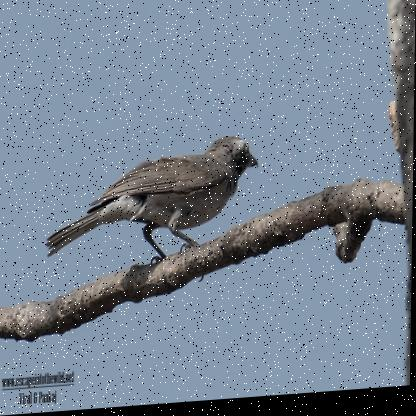Burung: (45, 137, 259, 292)
